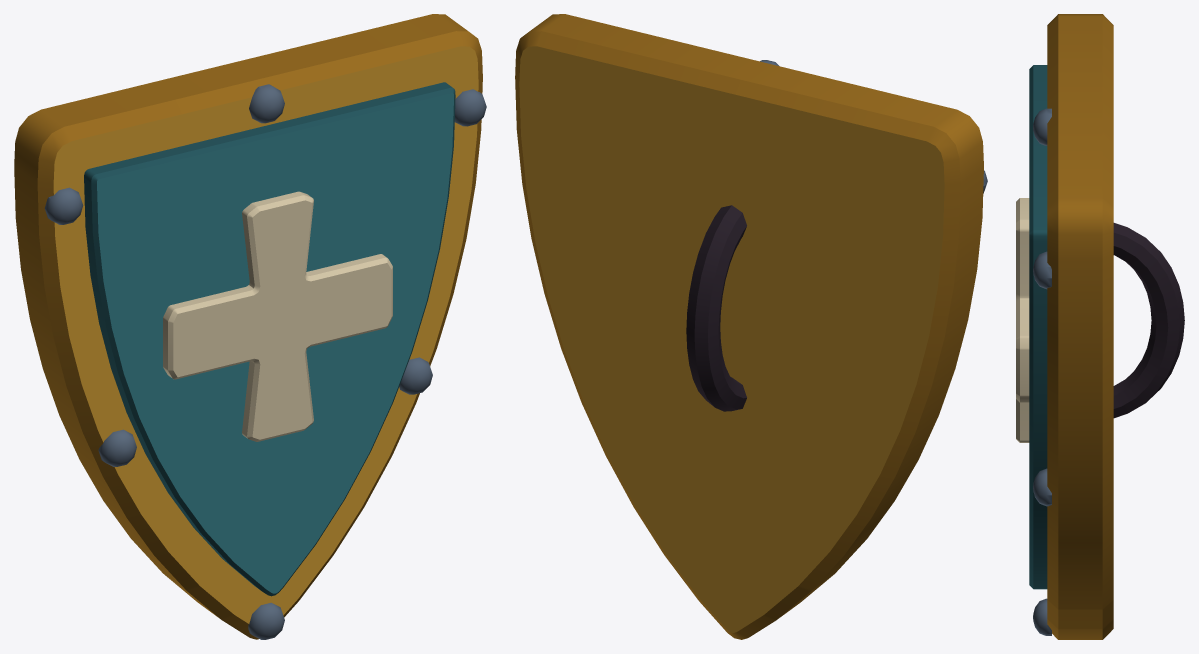
The model's file is HeaterShield_17.glb.
The picture shows the model from 3 angles, left to right: view 1: azimuth 30°, elevation 25°; view 2: azimuth 150°, elevation 25°; view 3: azimuth 270°, elevation 25°; orthographic projection. The views are drawn at different scales.
Visible parts, largest first — view 1: HeaterShield_17; view 2: HeaterShield_17; view 3: HeaterShield_17.
Part boxes in pixels (x1,y1,x2,y2): HeaterShield_17: (14, 14, 486, 639); HeaterShield_17: (515, 14, 987, 639); HeaterShield_17: (1016, 14, 1184, 639).
Bounding box in the file's own units: 2.2 × 2.64 × 0.76.
